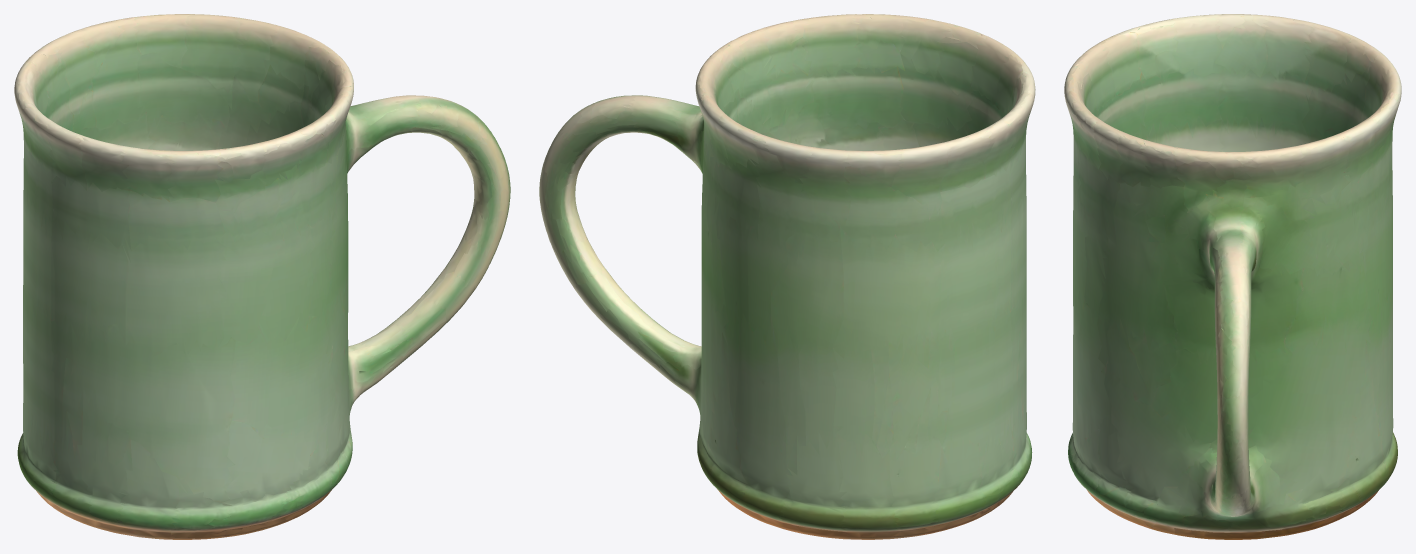
The model's file is kitchen-mug-06.glb.
3 views of the same model, side by side, from view 1: azimuth 30°, elevation 25°; view 2: azimuth 150°, elevation 25°; view 3: azimuth 270°, elevation 25° (orthographic).
Bounding box in the file's own units: 1.9 × 1.52 × 1.18.
Materials: 1 (1 with a texture image).
